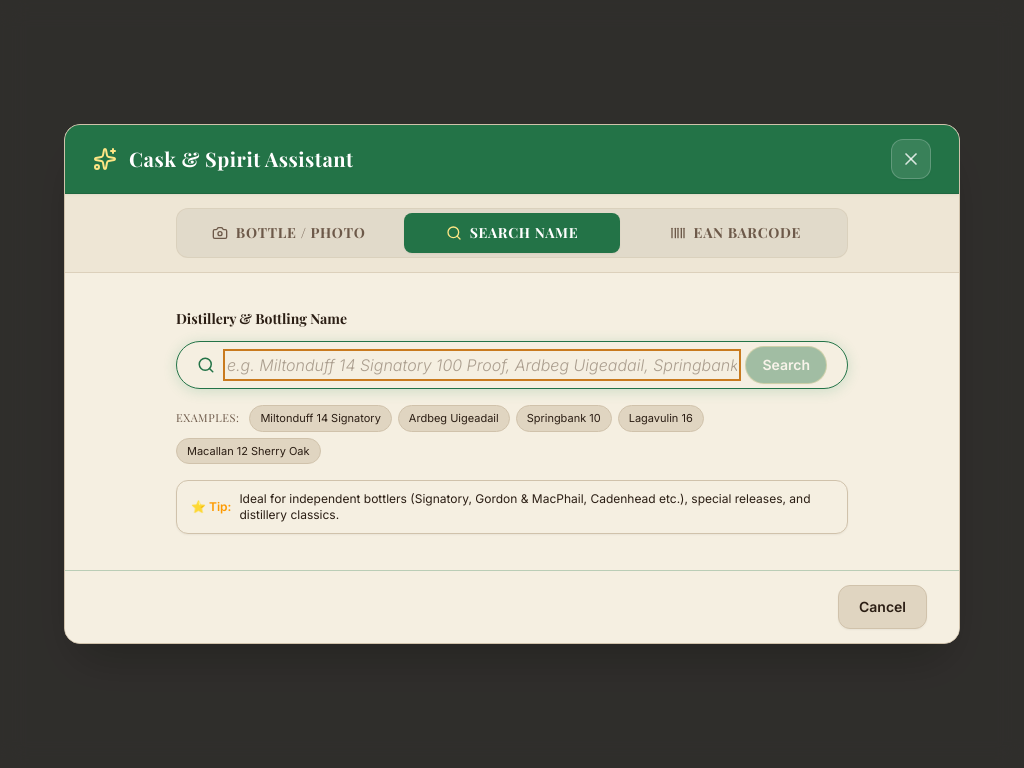
Test case: SpiritScanModal Integration › handles analysis errors gracefully
Replace the text in the field with "Invalid Spirit" at (482, 365), box [227,353,738,377]
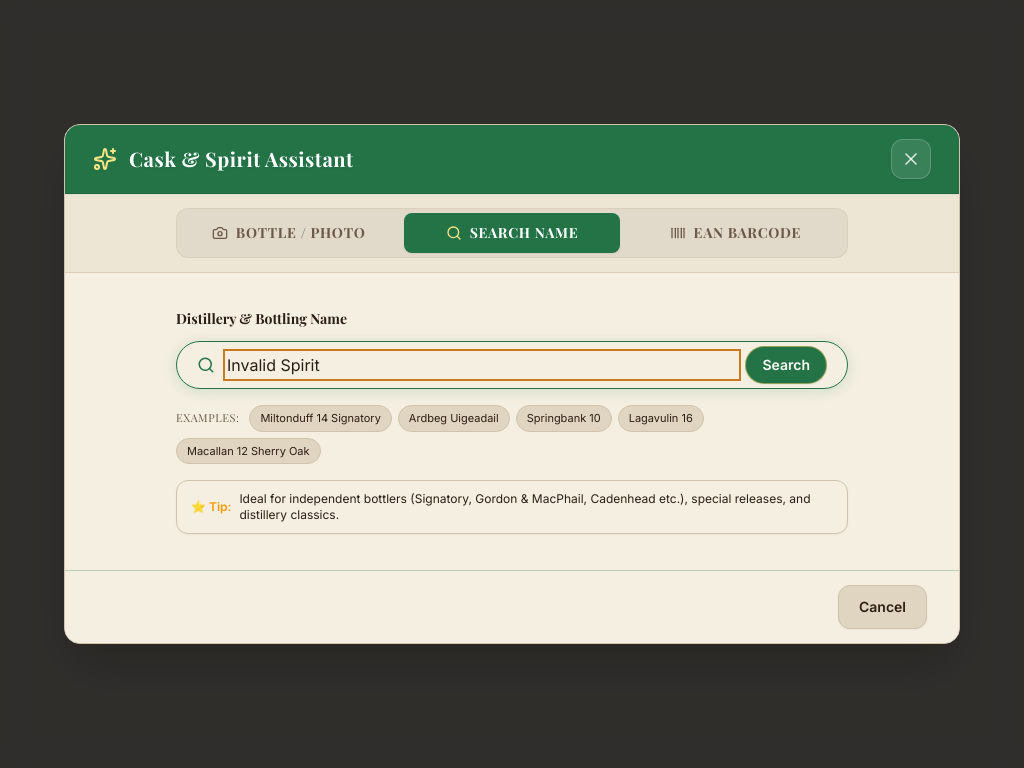
Click the button with test id "spirit-search-submit-btn" at (786, 365), box [746,346,827,384]
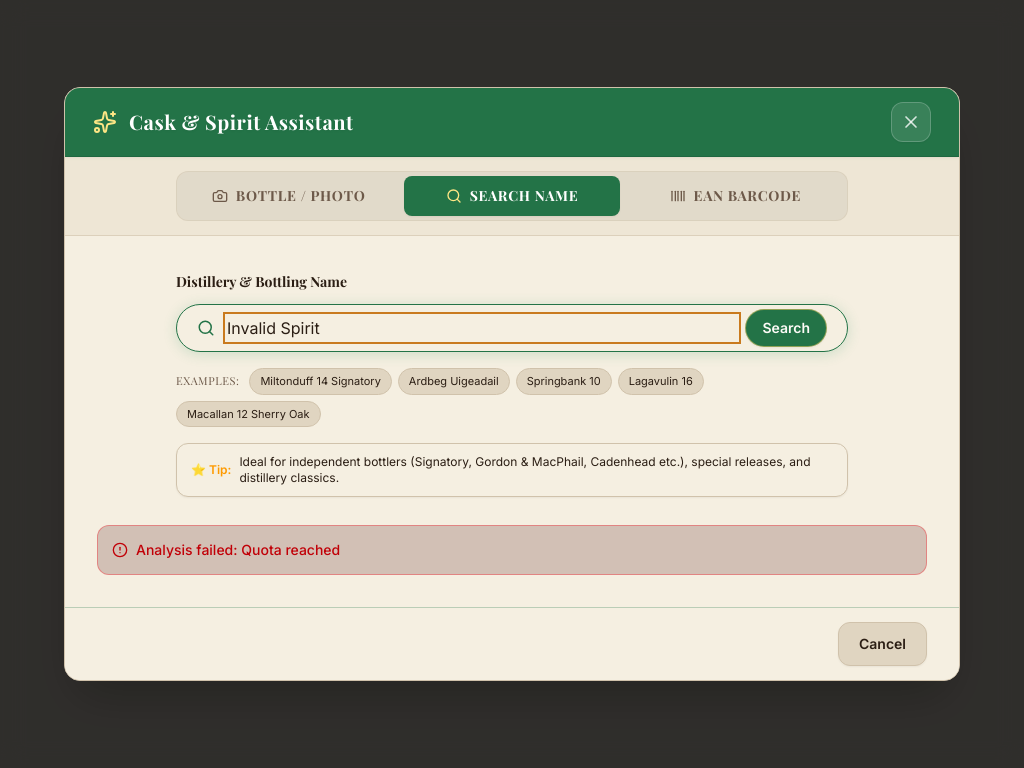
Result: the text "Analysis failed: Quota reached" is shown at [136,540,340,560]
